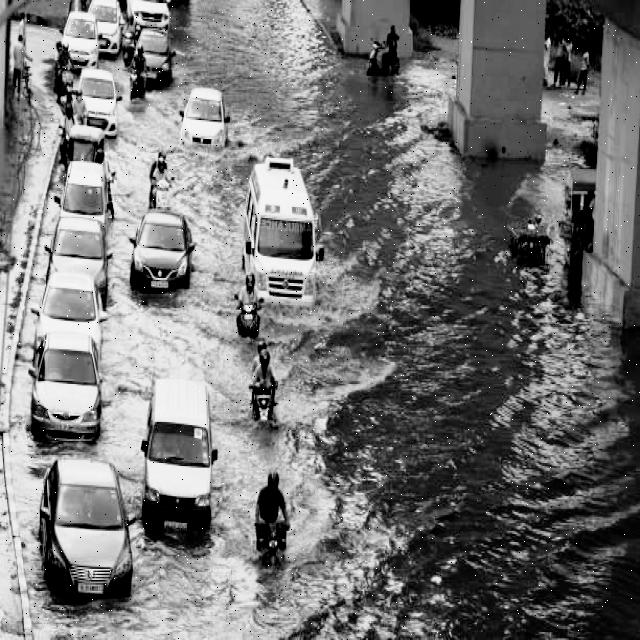Ambulance: (244, 154, 324, 317), (252, 201, 314, 264)
